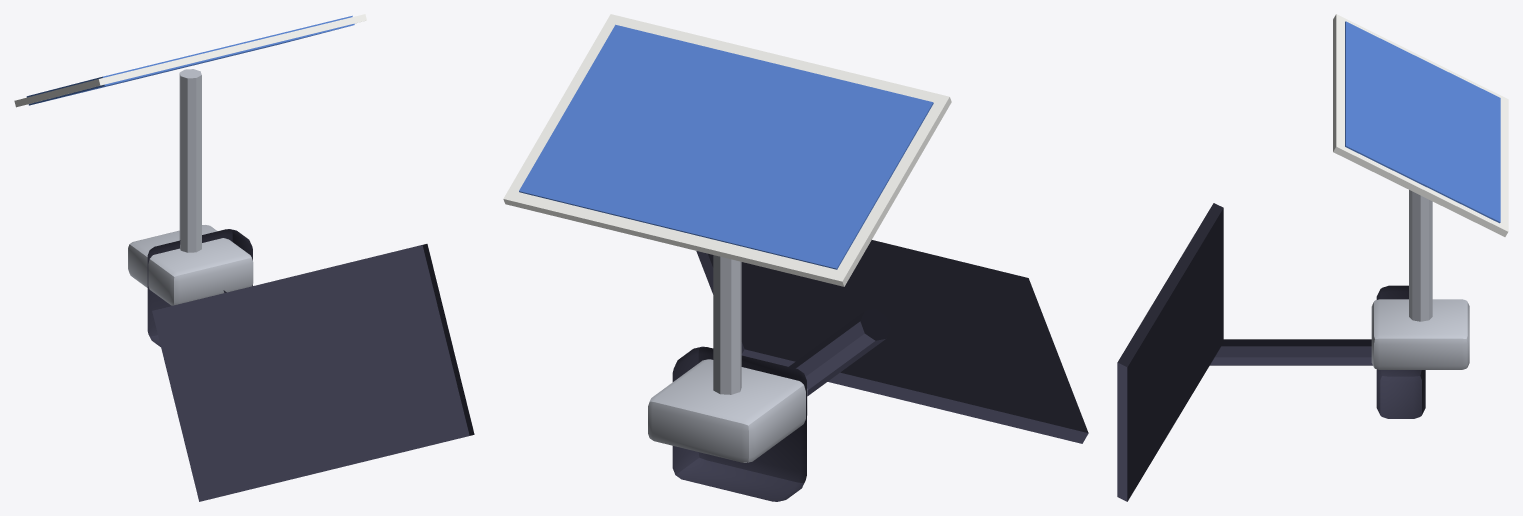
The model's file is Panel_Solar.fbx.
The picture shows the model from 3 angles, left to right: view 1: azimuth 30°, elevation 25°; view 2: azimuth 150°, elevation 25°; view 3: azimuth 270°, elevation 25°; orthographic projection. The views are drawn at different scales.
Parts seen in each view (by area): view 1: Panel_Marco_Contorno, Panel_Base, Panel_Mastil, Panel_Marco, Panel_Celdas, Panel_Base_Contorno; view 2: Panel_Celdas, Panel_Marco_Contorno, Panel_Marco, Panel_Base, Panel_Base_Contorno, Panel_Mastil, Panel_Mastil_Contorno; view 3: Panel_Celdas, Panel_Marco_Contorno, Panel_Base, Panel_Marco, Panel_Mastil_Contorno, Panel_Mastil, Panel_Base_Contorno.
Part boxes in pixels (bbox=[...]): Panel_Marco_Contorno: bbox=[152, 244, 474, 501]; Panel_Base: bbox=[128, 225, 253, 305]; Panel_Mastil: bbox=[179, 69, 201, 252]; Panel_Marco: bbox=[14, 14, 366, 107]; Panel_Celdas: bbox=[26, 15, 354, 105]; Panel_Base_Contorno: bbox=[147, 229, 252, 346]; Panel_Celdas: bbox=[519, 24, 933, 269]; Panel_Marco_Contorno: bbox=[696, 240, 1088, 443]; Panel_Marco: bbox=[503, 14, 951, 286]; Panel_Base: bbox=[648, 359, 807, 462]; Panel_Base_Contorno: bbox=[672, 346, 806, 501]; Panel_Mastil: bbox=[713, 255, 741, 394]; Panel_Mastil_Contorno: bbox=[789, 309, 890, 396]; Panel_Celdas: bbox=[1345, 21, 1500, 223]; Panel_Marco_Contorno: bbox=[1117, 203, 1223, 501]; Panel_Base: bbox=[1371, 299, 1469, 369]; Panel_Marco: bbox=[1333, 14, 1508, 236]; Panel_Mastil_Contorno: bbox=[1210, 339, 1372, 365]; Panel_Mastil: bbox=[1409, 190, 1432, 321]; Panel_Base_Contorno: bbox=[1376, 285, 1425, 418].
Bounding box in the file's own units: 3.25 × 3.99 × 3.99.
